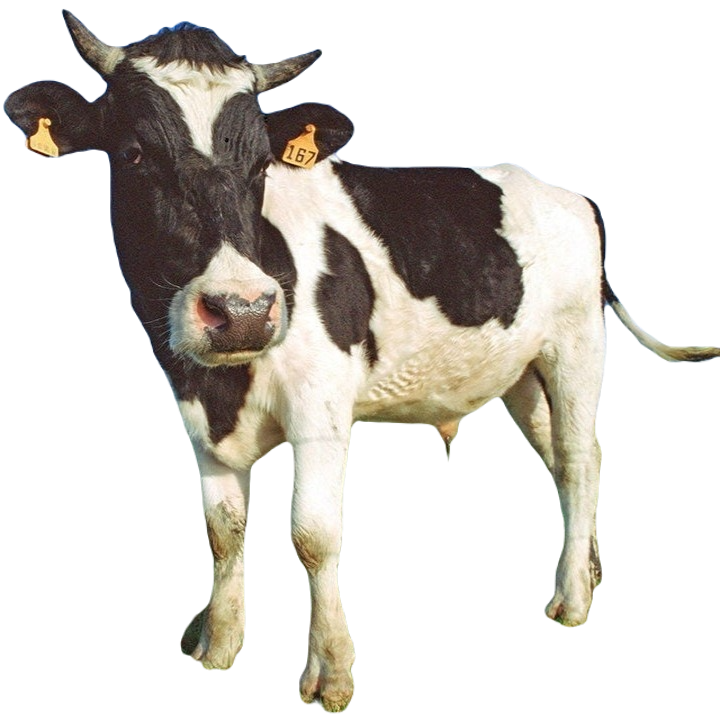Cow: (2, 6, 719, 715)
